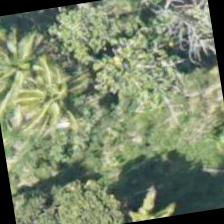Kelapa_Sawit: (0, 47, 102, 151), (88, 166, 186, 223)
